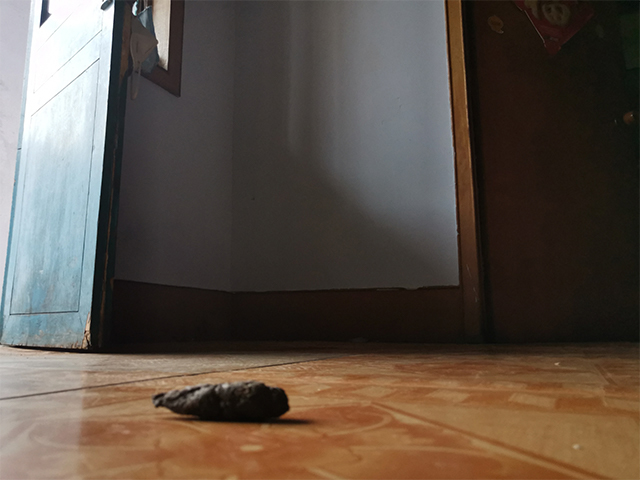feces: (149, 376, 294, 425)
